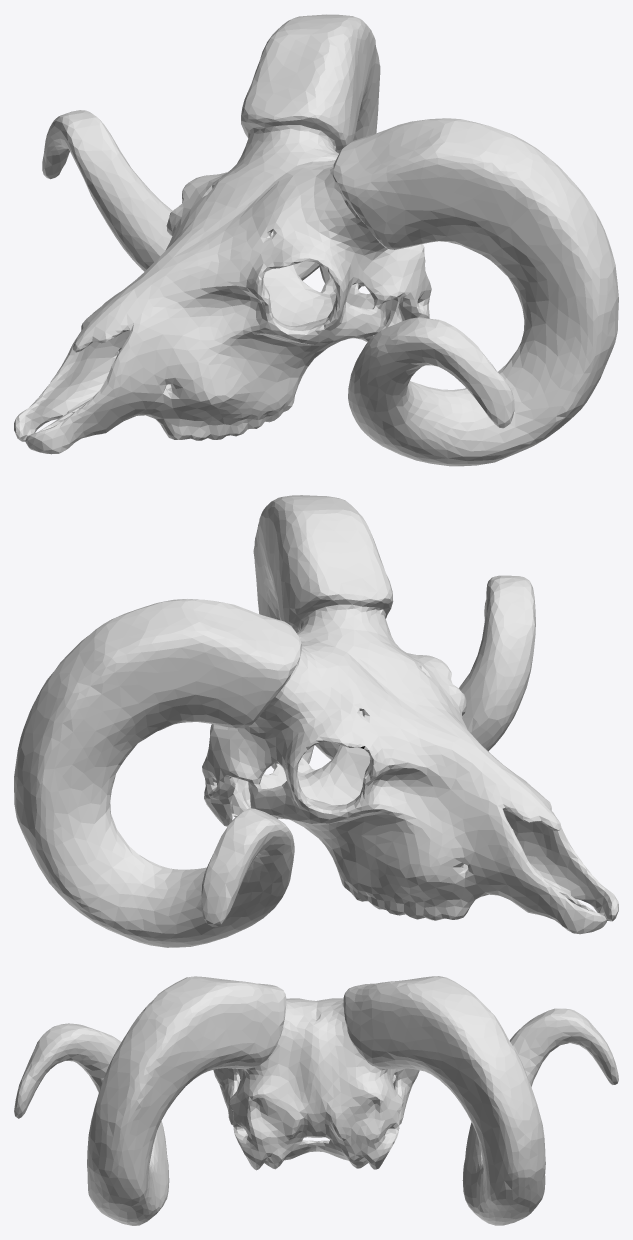
The model's file is animal_skull01.glb.
3 renders of one model, top to bottom at view 1: azimuth 30°, elevation 25°; view 2: azimuth 150°, elevation 25°; view 3: azimuth 270°, elevation 25°, orthographic. The views are drawn at different scales.
Visible parts, largest first — view 1: Low; view 2: Low; view 3: Low.
Boxes of the visible parts, x1,y1,x2,y2 form: Low: (14,14,618,466); Low: (14,495,618,947); Low: (14,976,618,1225).
Size of the model in its own units: 1.46 by 0.8817 by 1.99.
Materials: 1 (1 with a texture image).
